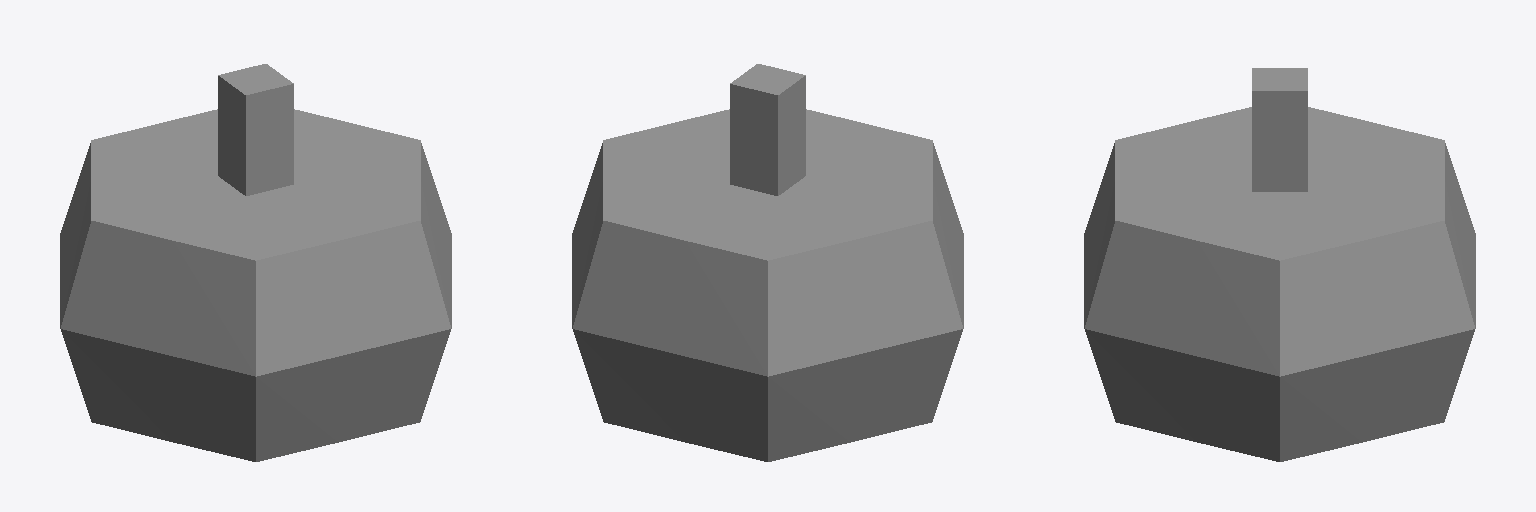
The model's file is pumpkin_01_02_a.obj.
3 views of the same model, side by side, from view 1: azimuth 30°, elevation 25°; view 2: azimuth 150°, elevation 25°; view 3: azimuth 270°, elevation 25° (orthographic).
Parts seen in each view (by area): view 1: pumpkin_01_02_a; view 2: pumpkin_01_02_a; view 3: pumpkin_01_02_a.
Part boxes in pixels (bbox=[...]): pumpkin_01_02_a: bbox=[60, 64, 451, 461]; pumpkin_01_02_a: bbox=[572, 64, 963, 461]; pumpkin_01_02_a: bbox=[1084, 68, 1475, 461].
Size of the model in its own units: 0.6737 by 0.581 by 0.5834.